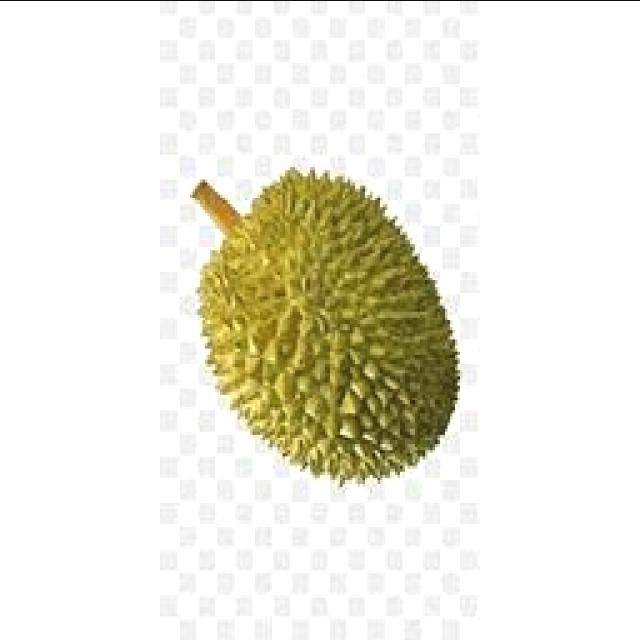agrume: (185, 150, 480, 502)
